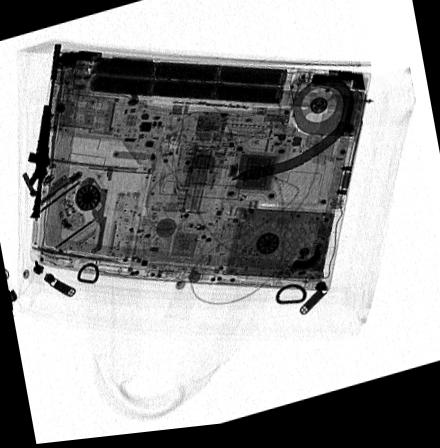Gun: (27, 43, 62, 221)
